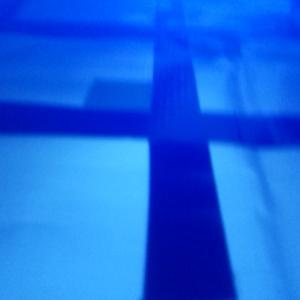bottom_right: (155, 26, 242, 58)
top_left: (88, 81, 197, 138)
